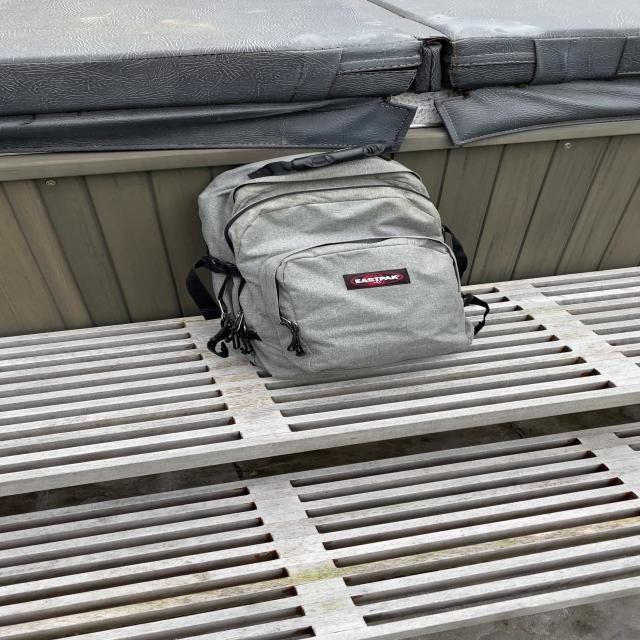backpack: (178, 148, 482, 390)
